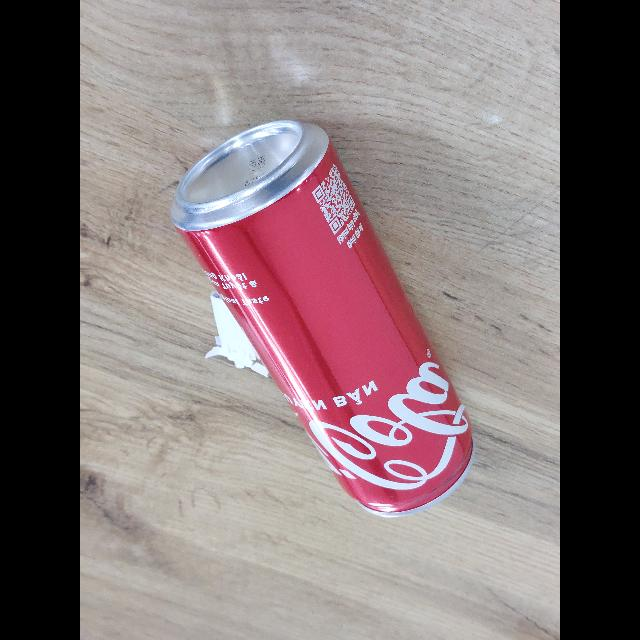coca_cola: (170, 117, 474, 517)
